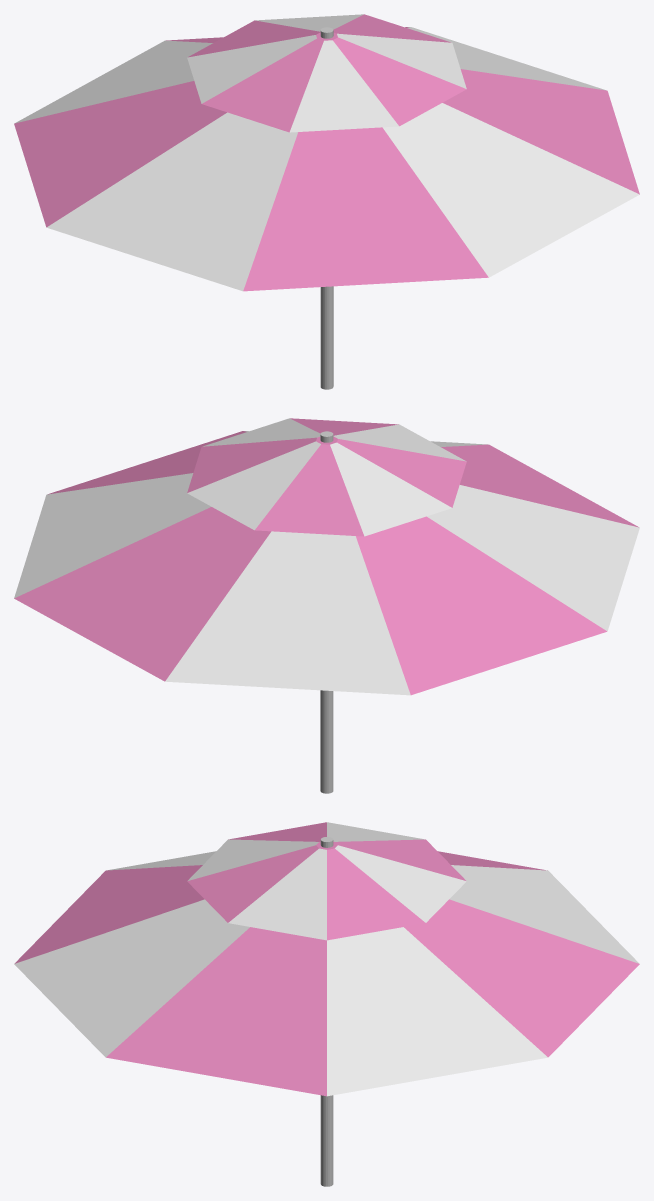
The model's file is Guarda-Sol4.fbx.
The picture shows the model from 3 angles, top to bottom: view 1: azimuth 30°, elevation 25°; view 2: azimuth 150°, elevation 25°; view 3: azimuth 270°, elevation 25°; orthographic projection. The views are drawn at different scales.
Parts seen in each view (by area): view 1: Circle, Cylinder; view 2: Circle, Cylinder; view 3: Circle, Cylinder.
Part boxes in pixels (box(x1,y1,x2,y2)): Circle: box(14, 14, 639, 291); Cylinder: box(320, 27, 333, 389); Circle: box(14, 418, 639, 695); Cylinder: box(320, 431, 333, 793); Circle: box(14, 822, 639, 1096); Cylinder: box(320, 837, 333, 1186).
Size of the model in its own units: 680 by 413 by 680.
